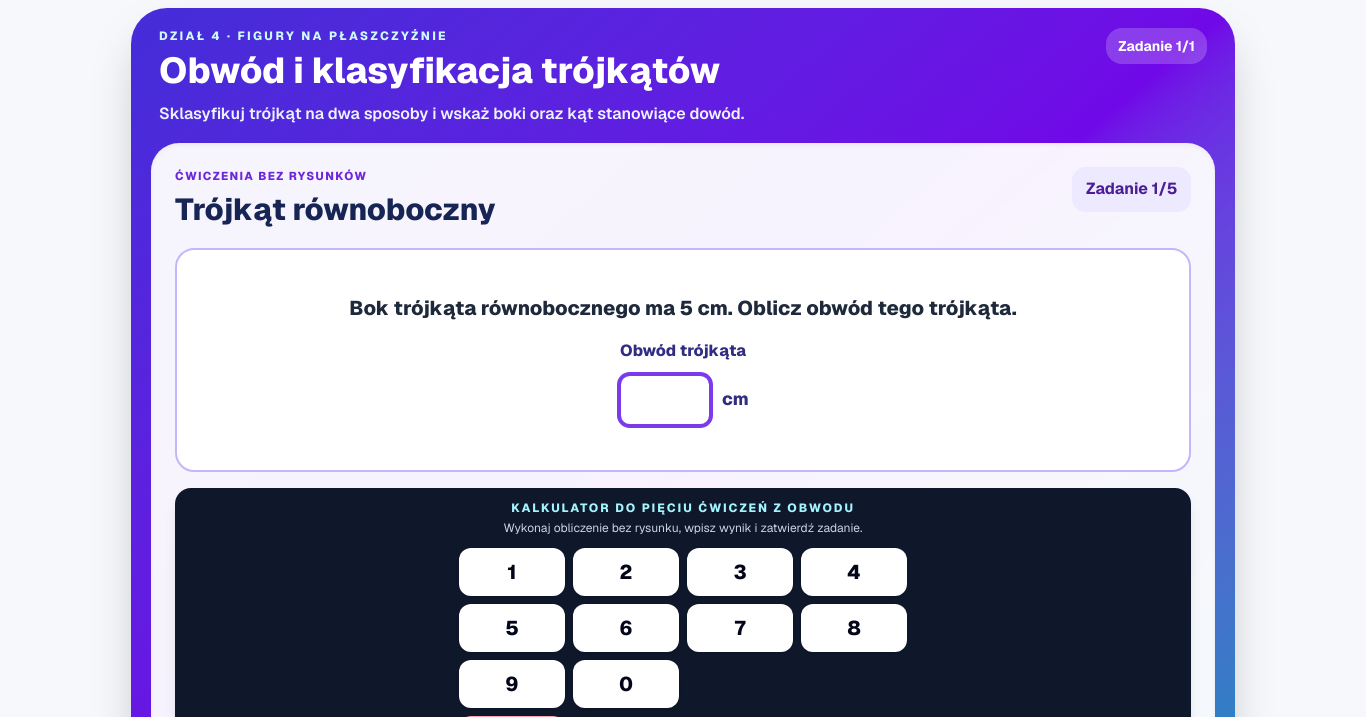
Test: BoardStageDisplay — Ocena umiejętności › na slajdzie pięciu obwodów przechodzi wewnętrznie do poprawionego drugiego zadania
Expected: the text "Bok trójkąta równobocznego ma 5 cm. Oblicz obwód tego trójkąta." is shown, [349,295,1017,321]
Click the button "1" at (512, 572), box [459,548,565,596]
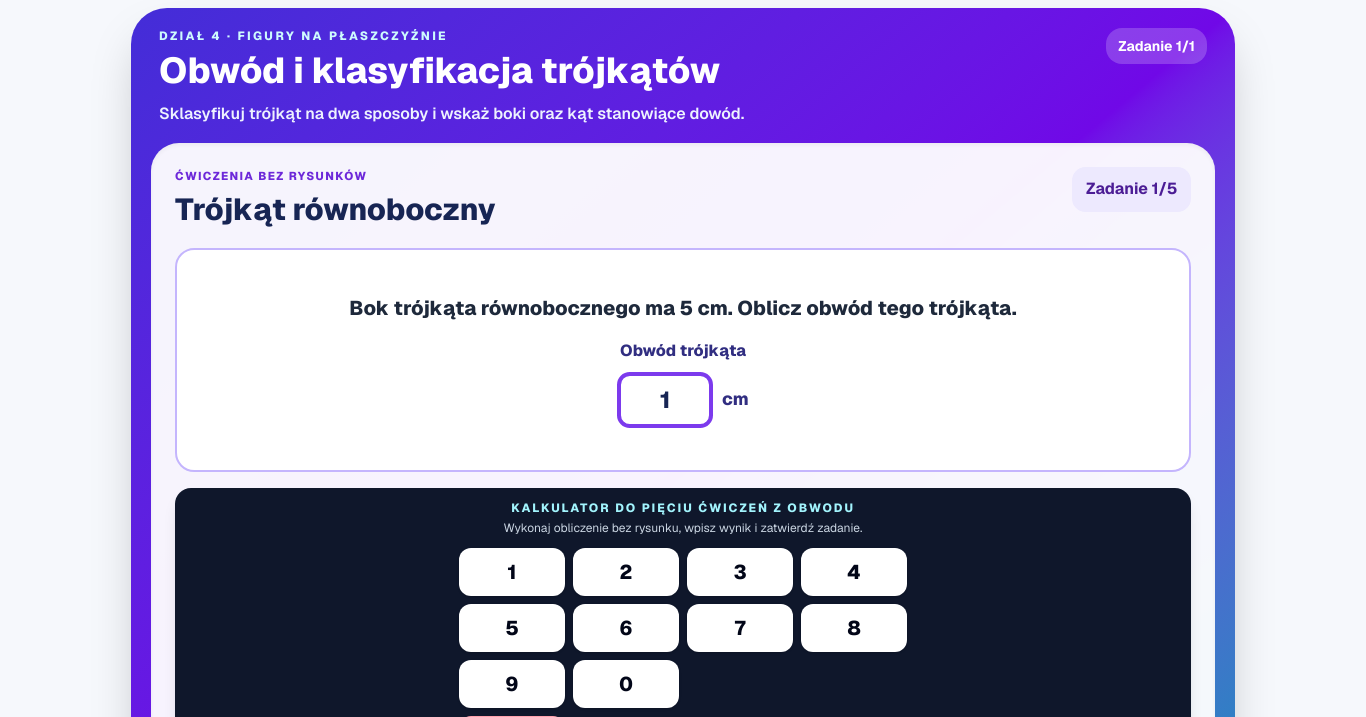
Click the button "5" at (512, 628), box [459,604,565,652]
(page scrolled)
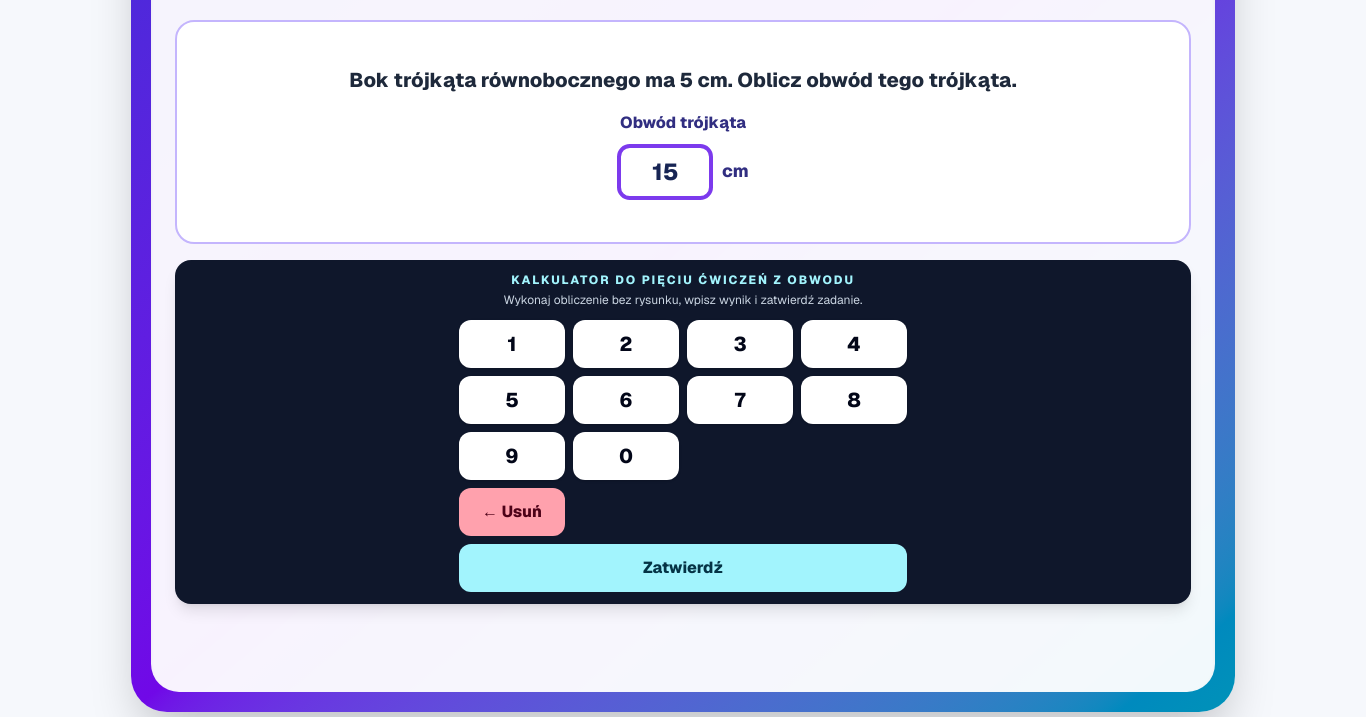
Click the button "Zatwierdź" at (683, 568), box [459,544,907,592]
Wait 700 ms
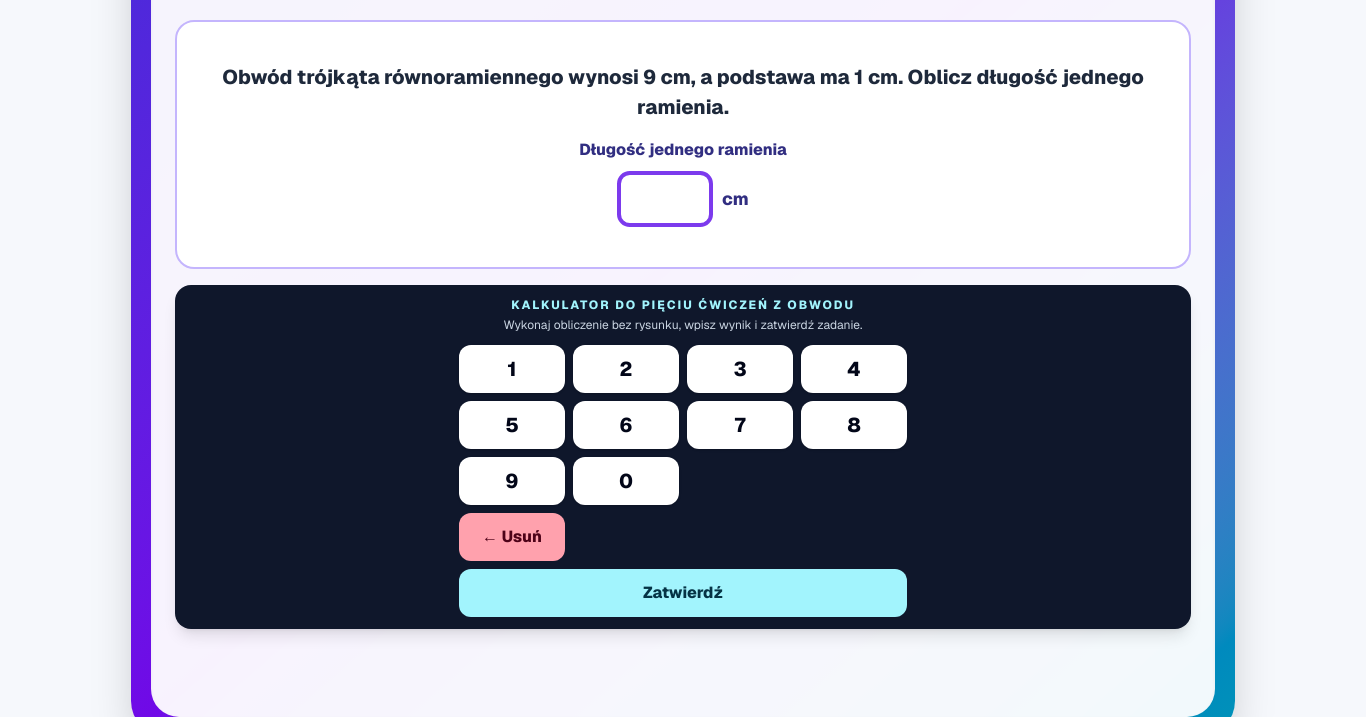
Expected: the text "Obwód trójkąta równoramiennego wynosi 9 cm, a podstawa ma 1 cm. Oblicz długość jednego ramienia." is shown, [222,64,1144,120]
